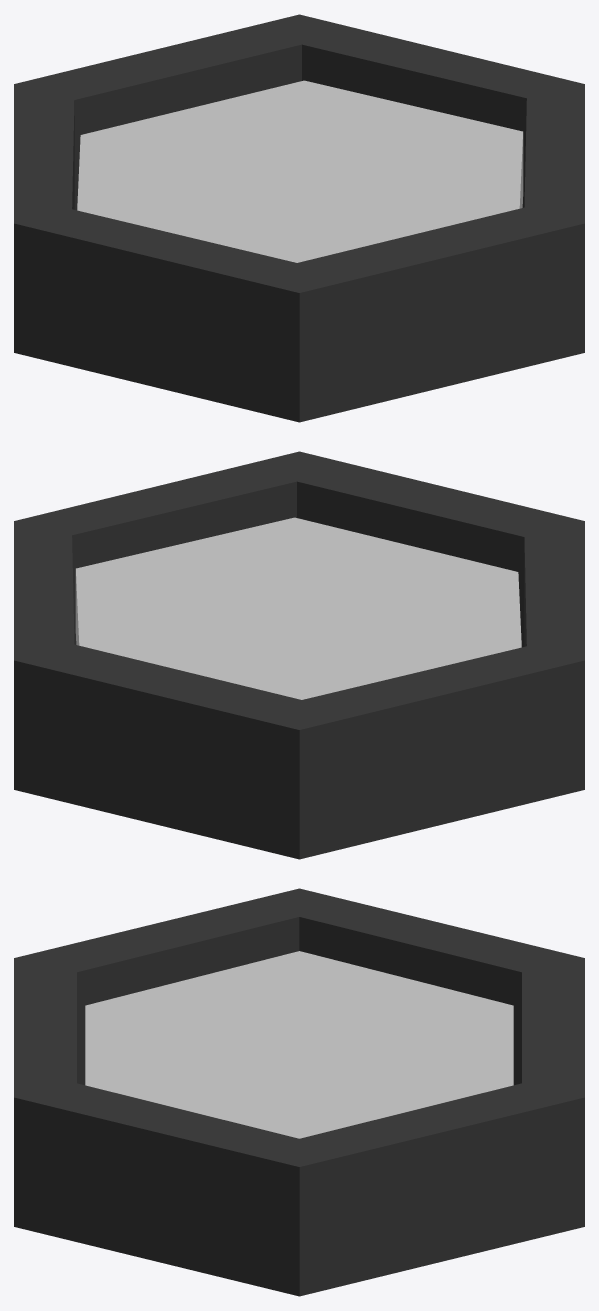
File: MHUD_M.obj
3 views of the same model, one above another, from view 1: azimuth 30°, elevation 25°; view 2: azimuth 150°, elevation 25°; view 3: azimuth 270°, elevation 25° (orthographic).
Parts seen in each view (by area): view 1: tube, cylinder; view 2: tube, cylinder; view 3: tube, cylinder.
Boxes of the visible parts, x1,y1,x2,y2 form: tube: (14, 14, 584, 422); cylinder: (77, 80, 523, 262); tube: (14, 451, 584, 859); cylinder: (75, 517, 521, 699); tube: (14, 888, 584, 1296); cylinder: (85, 951, 513, 1138).
Bounding box in the file's own units: 1.15 × 0.25 × 1.
